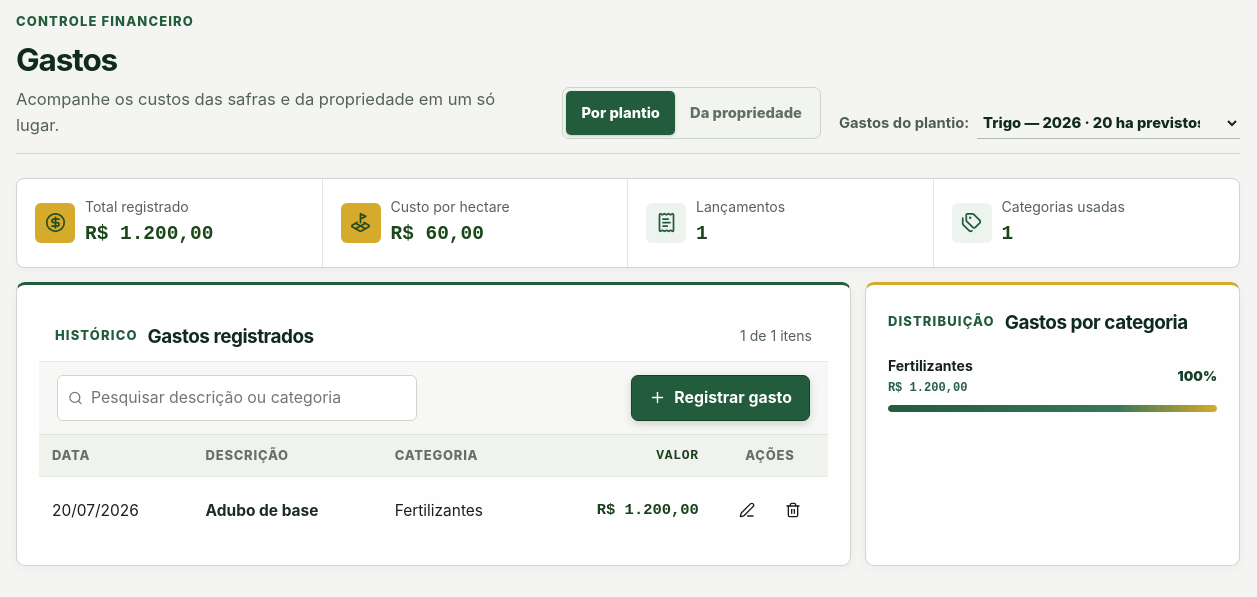
Scenario: ExpensesPage › carrega o resumo e permite pesquisar os gastos do plantio
expect the text "Adubo de base" is shown: met, box [206,501,318,520]
expect the text "R$ 1.200,00" is shown 3 times: met, box [85,220,213,249]; [537,477,712,543]; [888,379,973,397]
Type "diesel" into the search field with placeholder "Pesquisar descrição ou categoria" at point(248, 398), box [91,386,406,410]
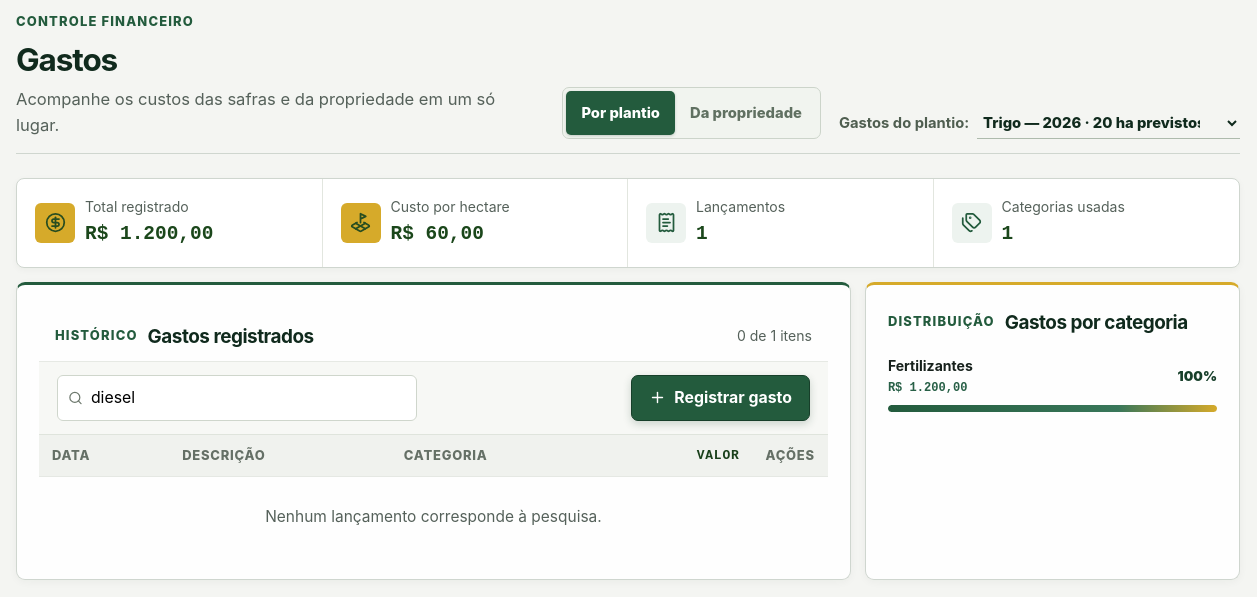
expect the text "Nenhum lançamento corresponde à pesquisa." is shown: met, box [39,477,828,557]
Replace the text in the search field with placeholder "Pesquisar descrição ou categoria" with "fertilizantes" at point(248, 398), box [91,386,406,410]
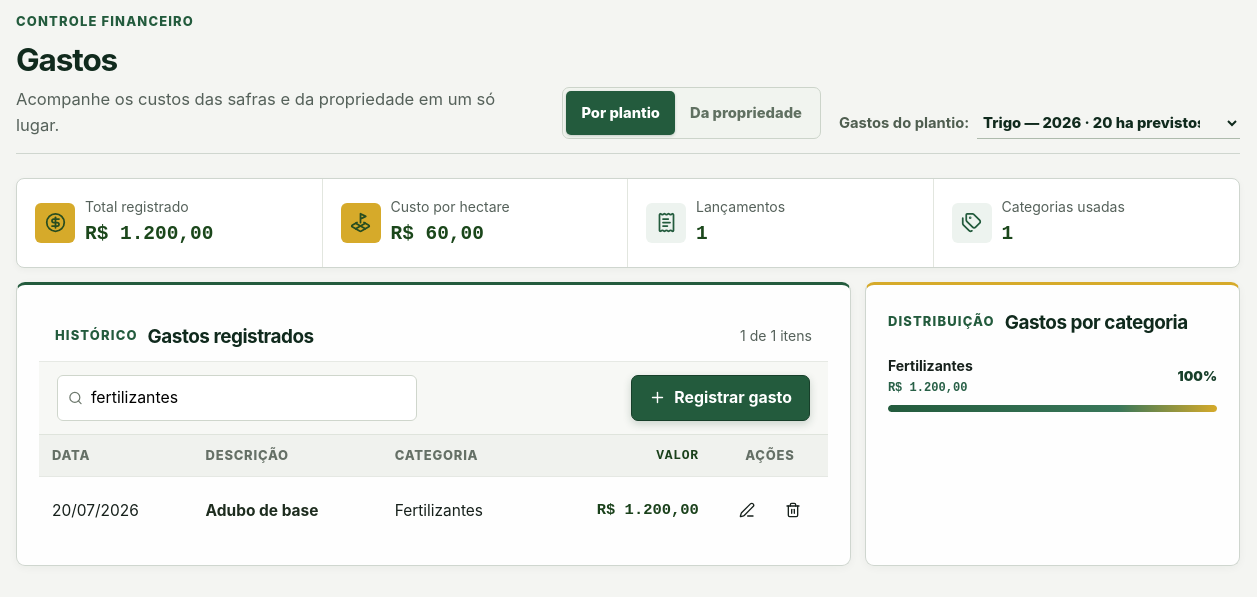
expect the text "Adubo de base" is shown: met, box [206,501,318,520]
